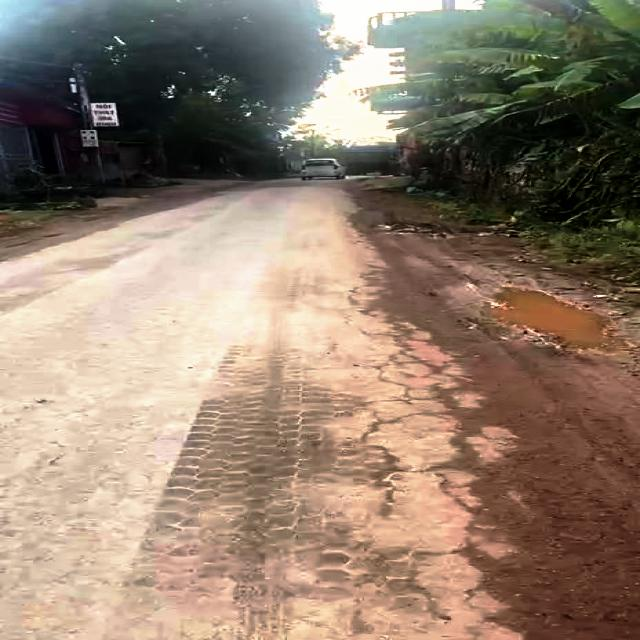pothole: (456, 281, 636, 357)
